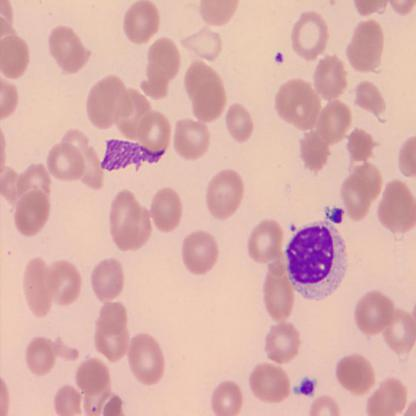Myelocyte: (284, 220, 344, 294)
